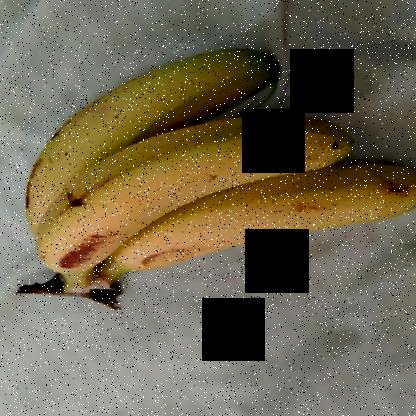ripe: (42, 116, 350, 276), (123, 165, 415, 280)
